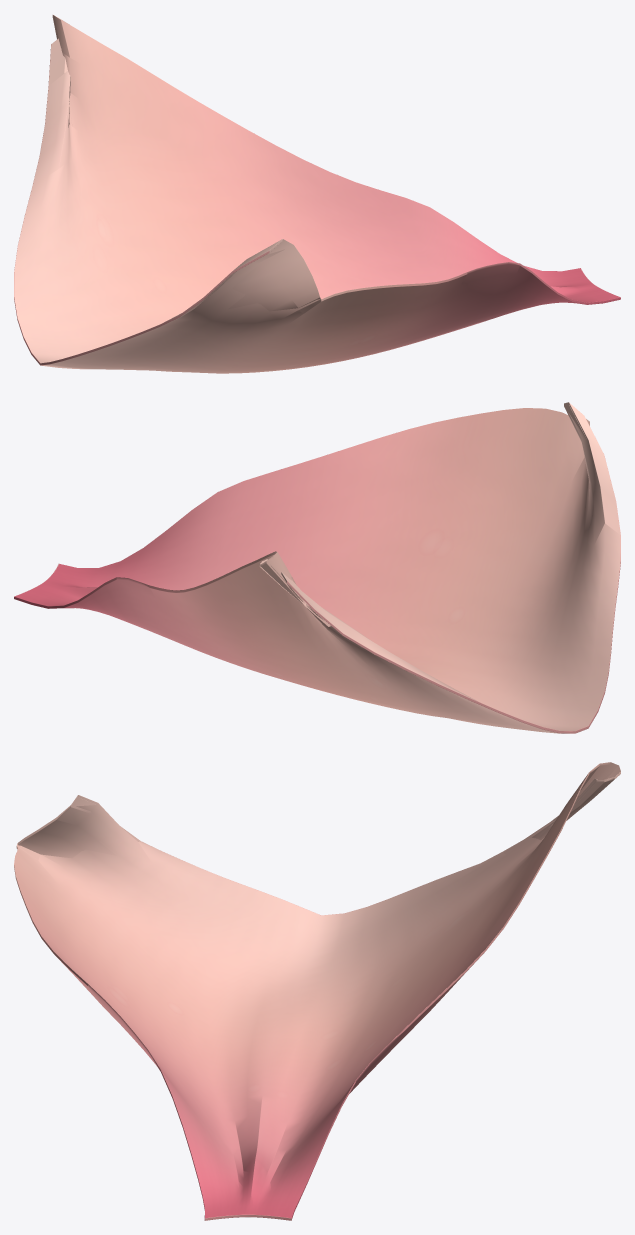
The model's file is papri6.glb.
3 views of the same model, one above another, from view 1: azimuth 30°, elevation 25°; view 2: azimuth 150°, elevation 25°; view 3: azimuth 270°, elevation 25° (orthographic). The views are drawn at different scales.
Visible parts, largest first — view 1: Papri_06; view 2: Papri_06; view 3: Papri_06.
Part boxes in pixels (x1,y1,x2,y2): Papri_06: (14, 15, 620, 373); Papri_06: (14, 402, 620, 733); Papri_06: (14, 762, 620, 1220).
Bounding box in the file's own units: 1.06 × 0.4704 × 0.9773.
1 material, 1 textured.
